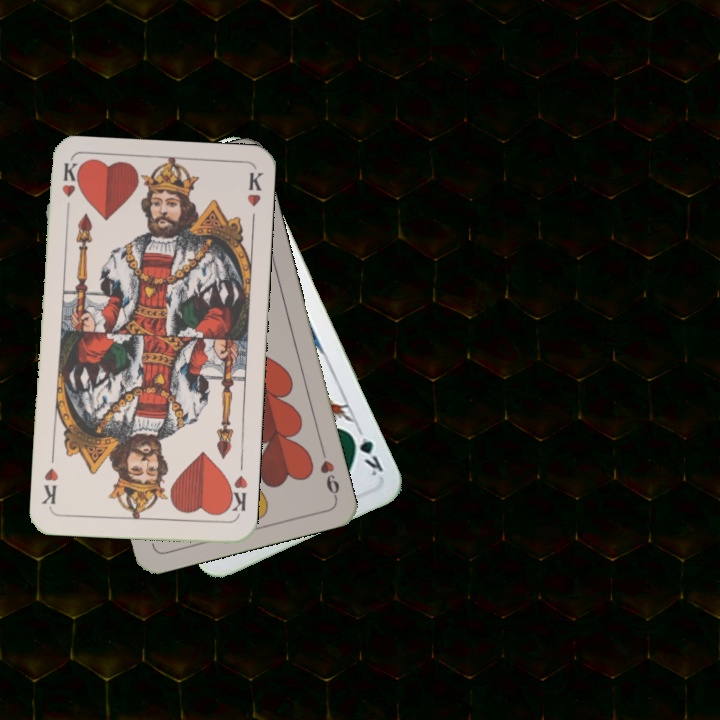GK: (346, 423, 386, 480)
H9: (316, 443, 342, 501)
HK: (58, 160, 81, 219), (222, 471, 250, 518)
